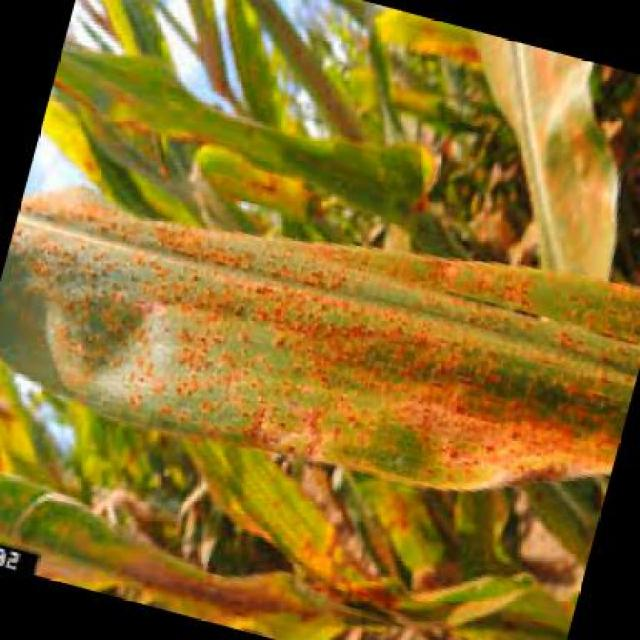Corn_Rust: (32, 175, 600, 514)
